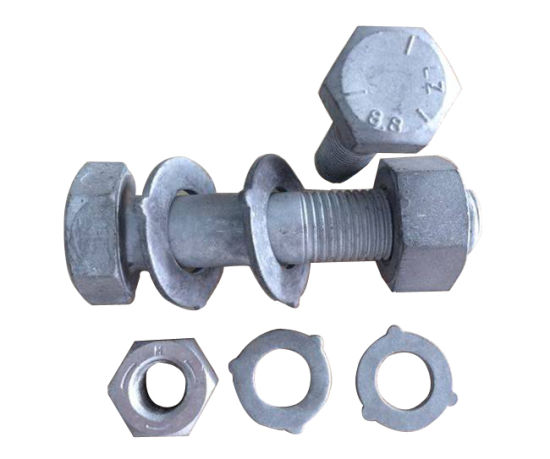hex nut: (96, 326, 223, 447)
loaded bolt: (51, 152, 495, 318)
